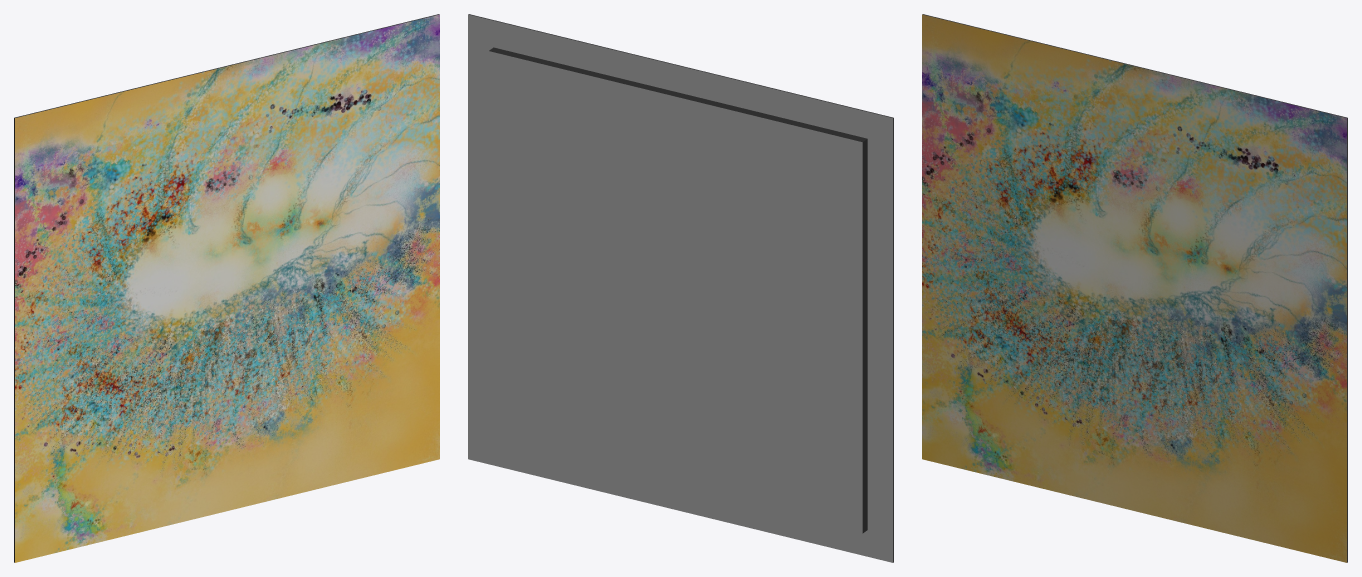
The model's file is va218_grand_dibond.glb.
3 renders of one model, left to right at view 1: azimuth 30°, elevation 25°; view 2: azimuth 150°, elevation 25°; view 3: azimuth 330°, elevation 25°, orthographic.
Visible parts, largest first — view 1: va218_grand_dibond; view 2: va218_grand_dibond; view 3: va218_grand_dibond.
Boxes of the visible parts, x1,y1,x2,y2 form: va218_grand_dibond: [14, 14, 439, 562]; va218_grand_dibond: [468, 14, 893, 562]; va218_grand_dibond: [922, 14, 1347, 562].
Size of the model in its own units: 1 by 1 by 0.023.
4 materials, 1 textured.
